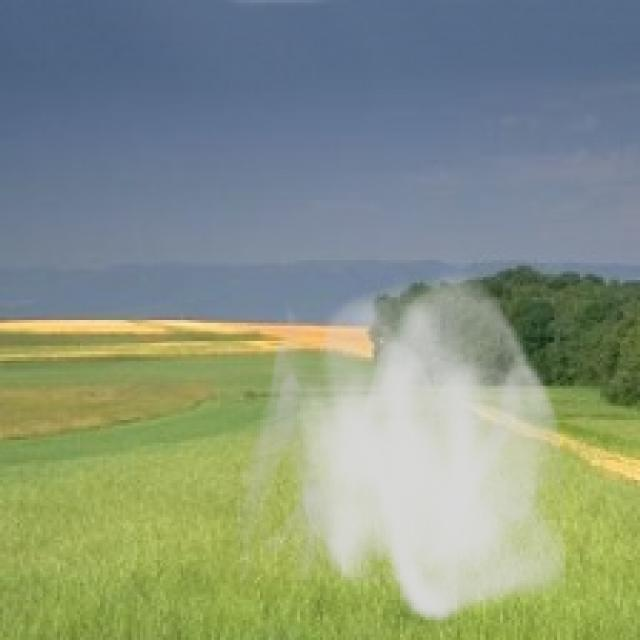Smoke: (232, 263, 577, 626)
